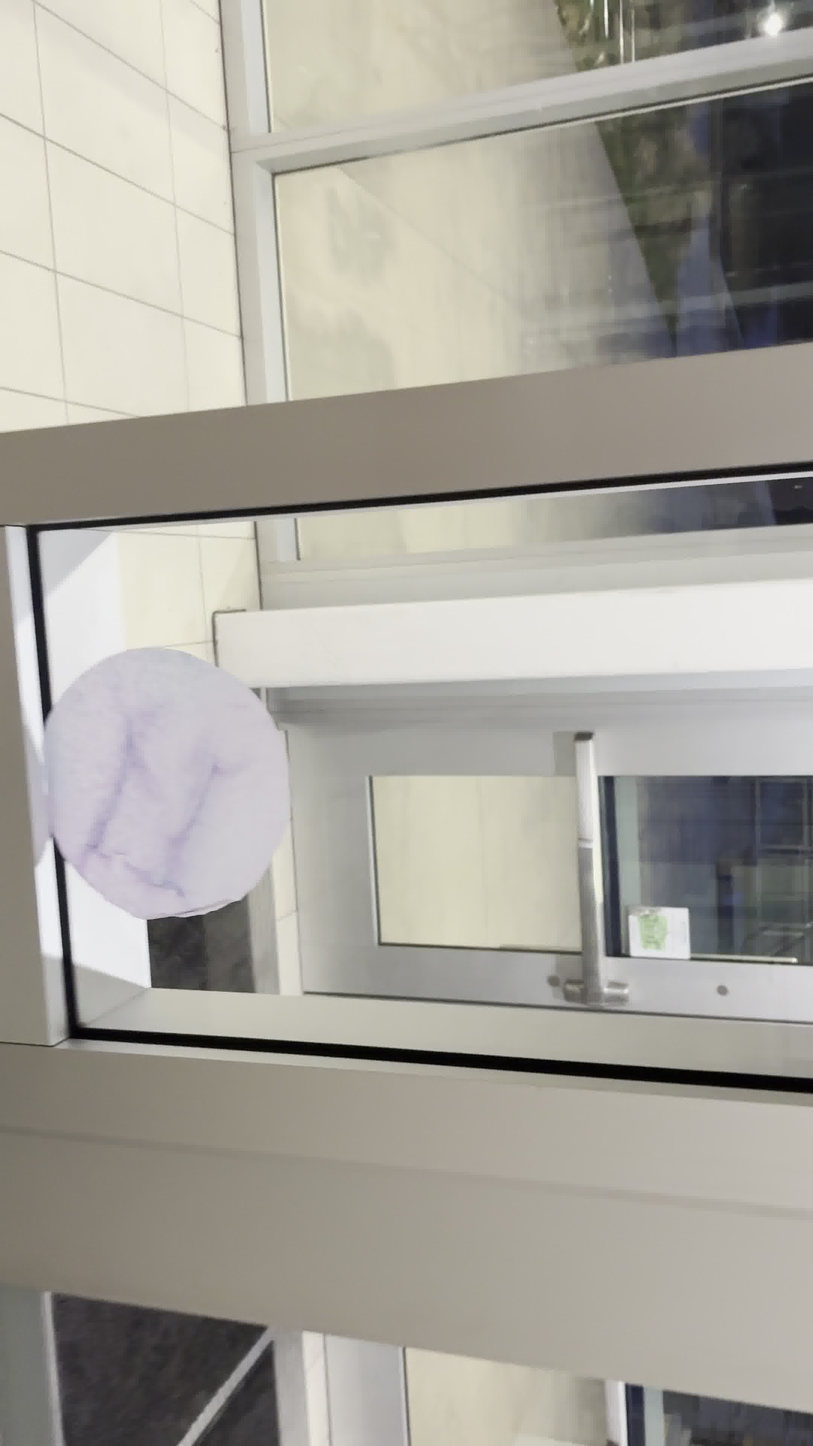Target: (36, 650, 295, 921)
